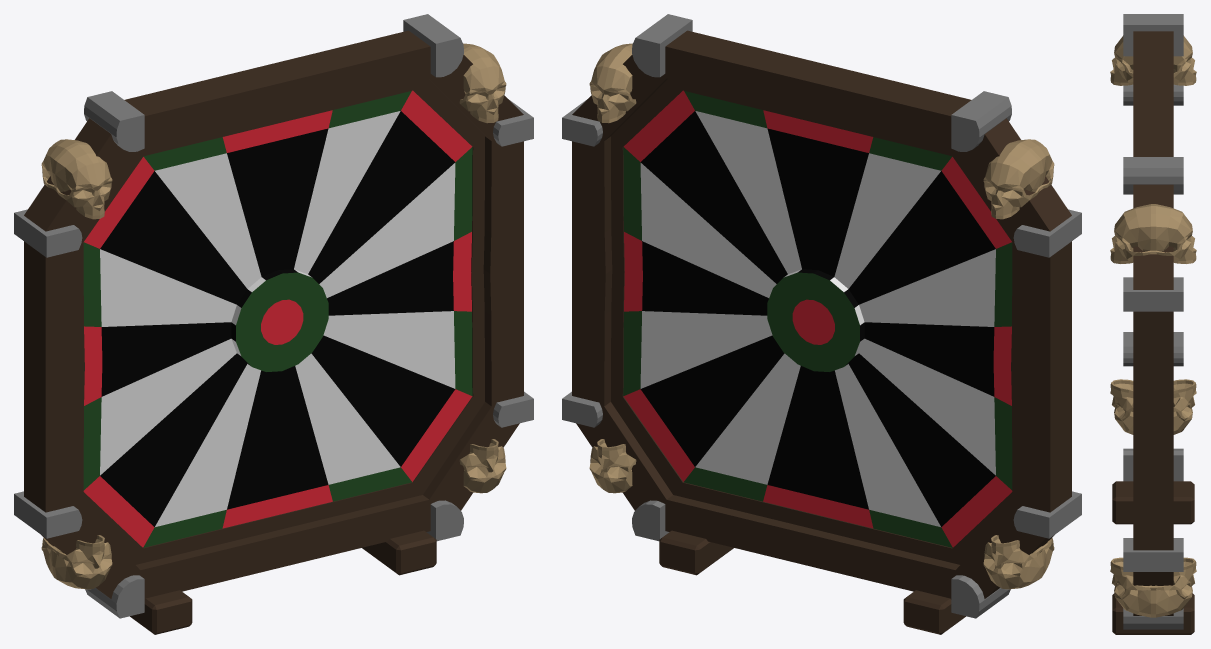
Rendered from Dianav02.fbx.
3 renders of one model, left to right at view 1: azimuth 30°, elevation 25°; view 2: azimuth 150°, elevation 25°; view 3: azimuth 270°, elevation 25°, orthographic. The views are drawn at different scales.
Visible parts, largest first — view 1: Cylinder.009; view 2: Cylinder.009; view 3: Cylinder.009.
Boxes of the visible parts, bbox=[...] form: Cylinder.009: bbox=[14, 14, 533, 634]; Cylinder.009: bbox=[562, 14, 1081, 634]; Cylinder.009: bbox=[1110, 14, 1196, 634].
Bounding box in the file's own units: 2 × 2.03 × 0.3317.
